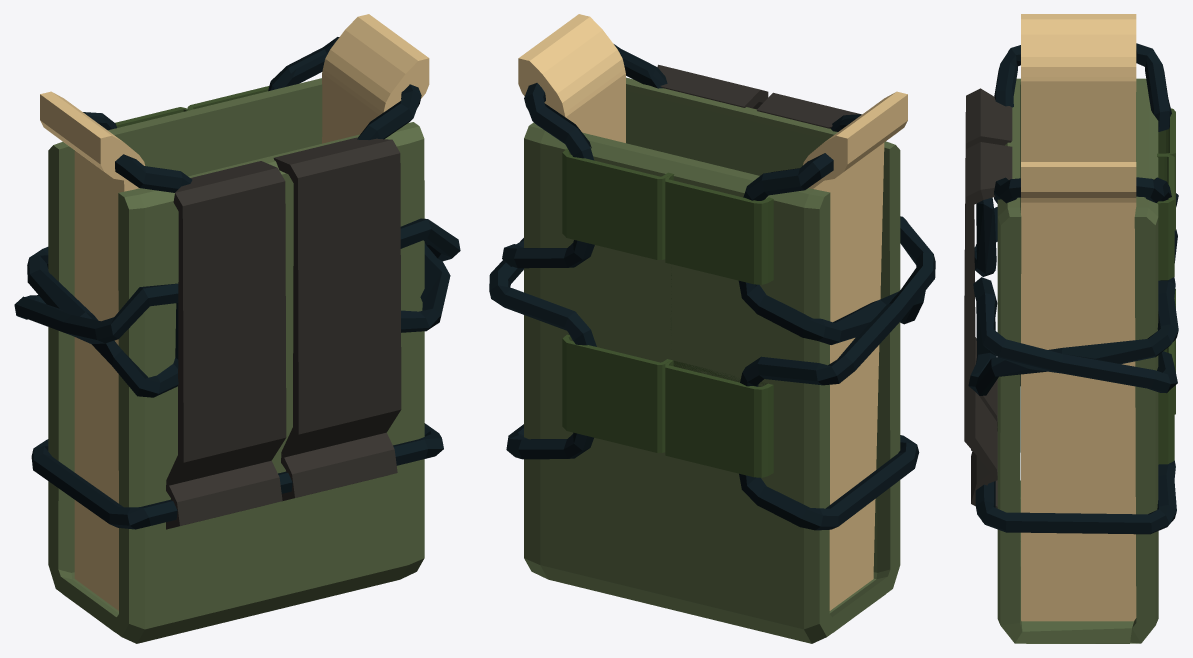
The model's file is mag pouch.fbx.
The picture shows the model from 3 angles, left to right: view 1: azimuth 30°, elevation 25°; view 2: azimuth 150°, elevation 25°; view 3: azimuth 270°, elevation 25°; orthographic projection. The views are drawn at different scales.
Parts seen in each view (by area): view 1: Pouch; view 2: Pouch; view 3: Pouch.
Part boxes in pixels (left/top/right/bottom): Pouch: left=14, top=14, right=460, bottom=643; Pouch: left=489, top=14, right=935, bottom=643; Pouch: left=964, top=14, right=1178, bottom=643.
Size of the model in its own units: 10 by 13.44 by 5.37.
